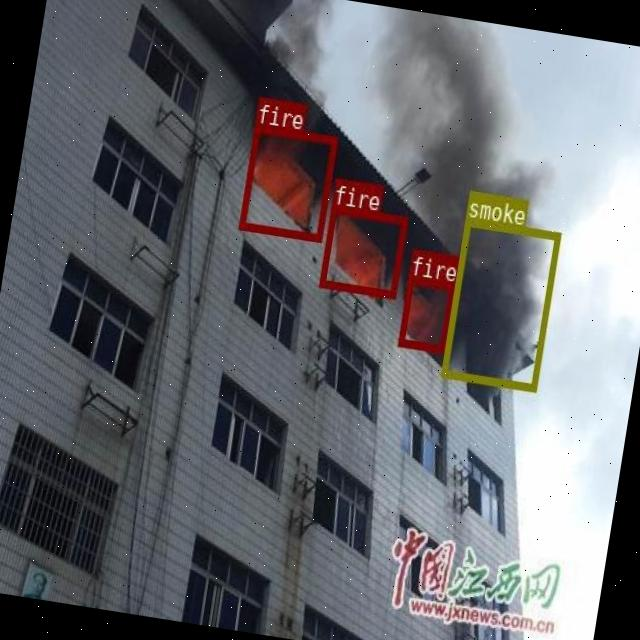fire: (238, 123, 336, 241), (318, 205, 408, 296), (398, 275, 454, 351)
smoke: (441, 217, 561, 390)
